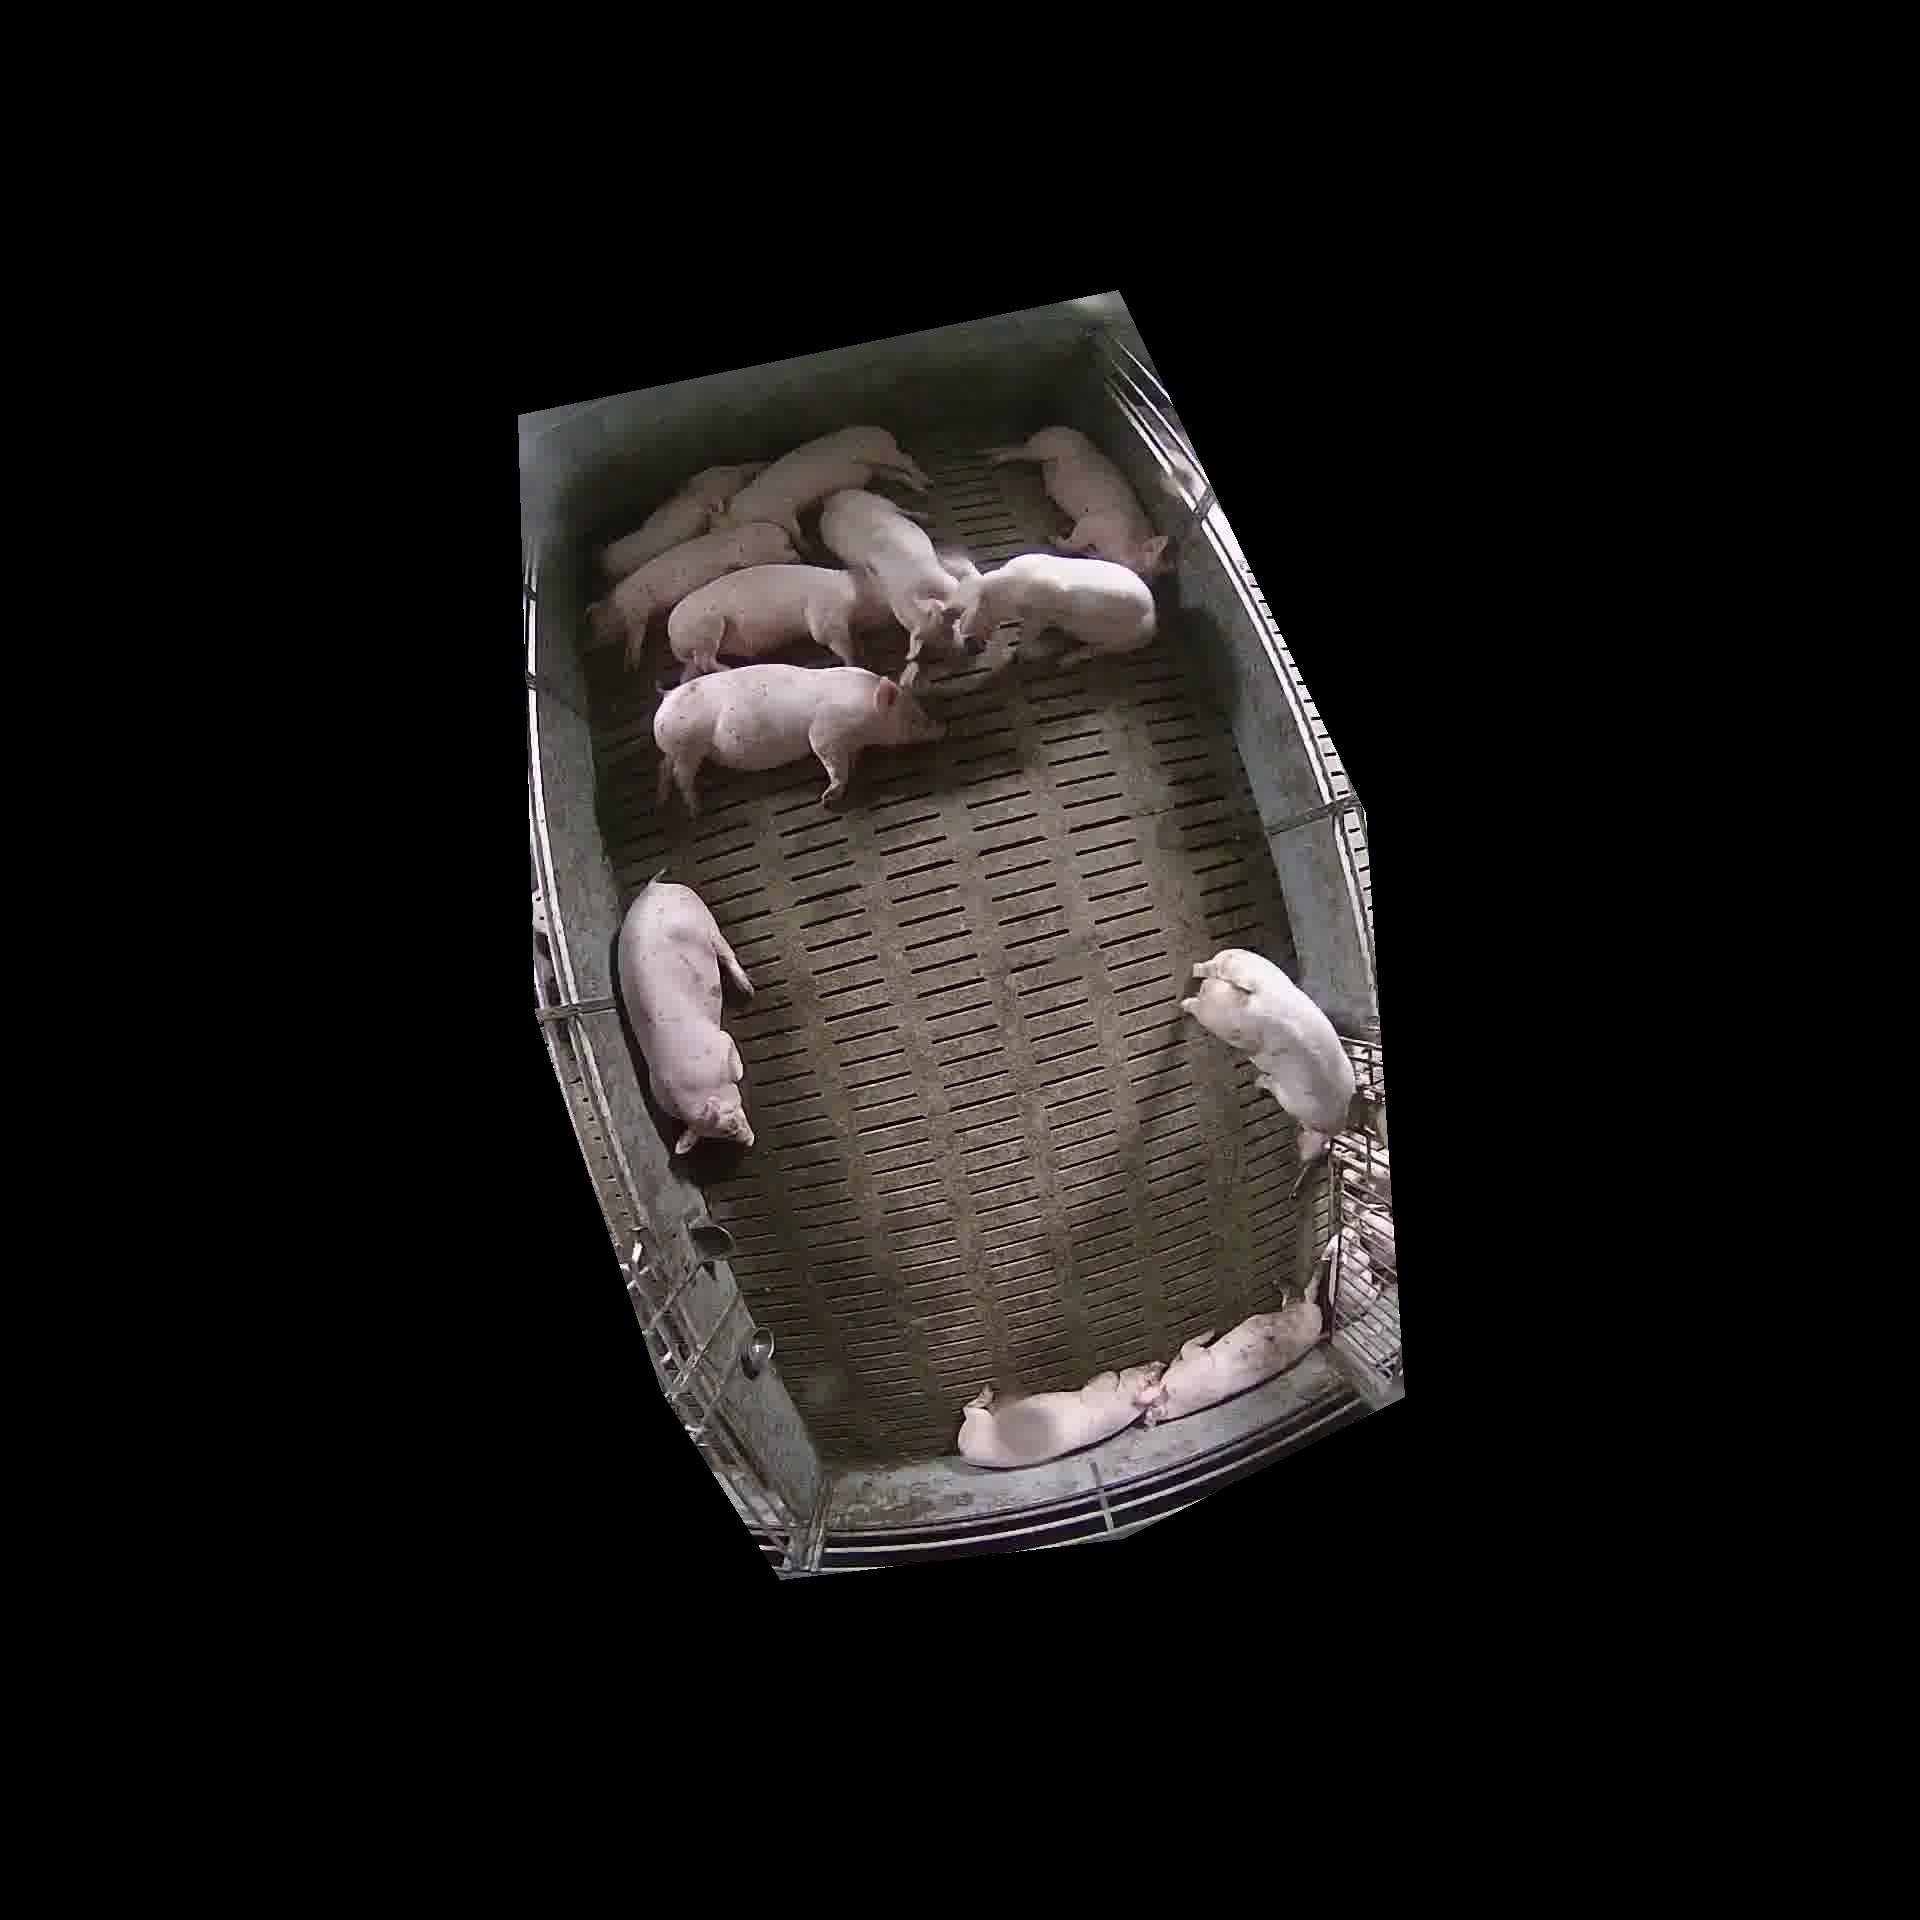pig: (656, 661, 942, 814), (1182, 949, 1356, 1162), (617, 881, 753, 1153), (587, 522, 796, 666), (988, 425, 1167, 578), (719, 425, 928, 542), (941, 552, 1155, 663), (666, 564, 874, 679), (819, 491, 956, 659), (1145, 1299, 1322, 1422), (958, 1363, 1162, 1466), (598, 462, 763, 580)
